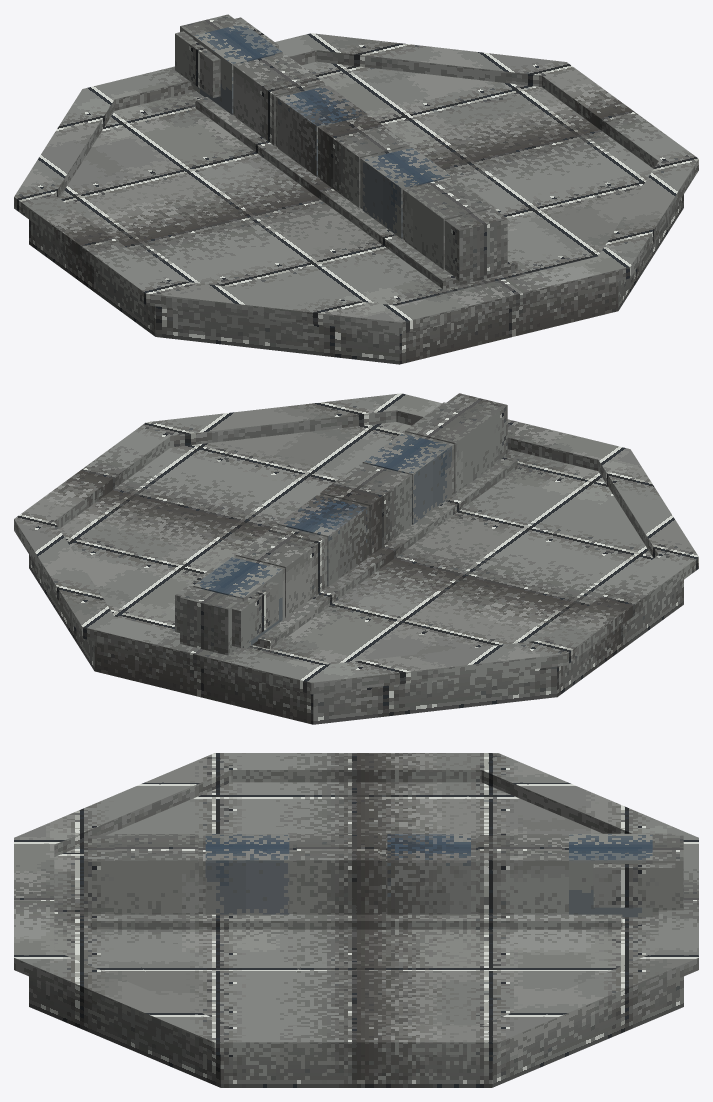
File: checkpoint_inactive.glb
The picture shows the model from 3 angles, top to bottom: view 1: azimuth 30°, elevation 25°; view 2: azimuth 150°, elevation 25°; view 3: azimuth 270°, elevation 25°; orthographic projection. The views are drawn at different scales.
Visible parts, largest first — view 1: checkpoint_inactive; view 2: checkpoint_inactive; view 3: checkpoint_inactive.
Boxes of the visible parts, left/top/right/bottom form: checkpoint_inactive: left=14, top=14, right=698, bottom=364; checkpoint_inactive: left=14, top=393, right=698, bottom=724; checkpoint_inactive: left=14, top=753, right=698, bottom=1087.
Bounding box in the file's own units: 2.51 × 0.415 × 2.51.
Materials: 2 (2 with a texture image).
